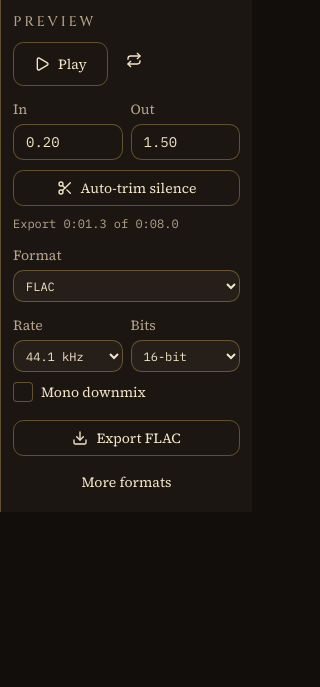
Test: Altar › picks the export format and leaves the current format out of more formats
The image size is (320, 687).
Select "OGG Vorbis" in the dropdown named "export format" at (126, 286), box top-left (13, 270), bottom-right (240, 302)
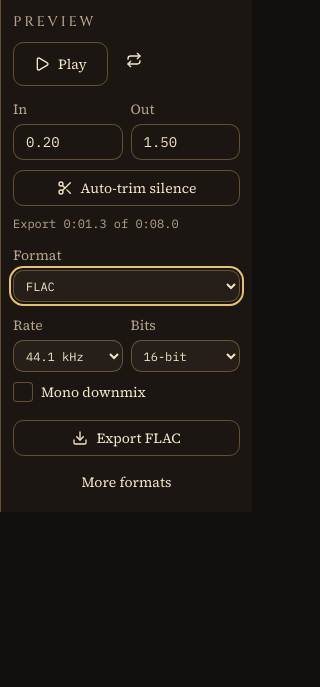
Click the button "More formats".
click(126, 482)  # box top-left (13, 464), bottom-right (240, 500)
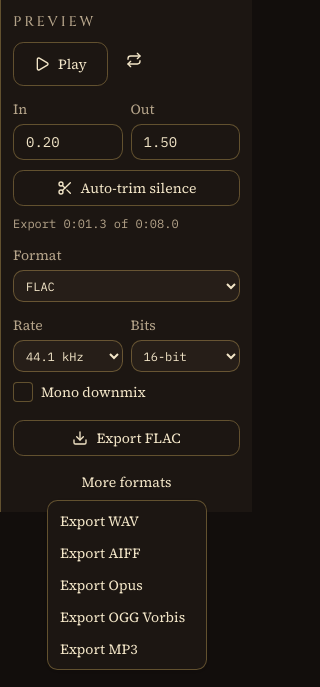
Expected: the menu item "Export WAV" is shown, top-left (60, 511), bottom-right (139, 531)
